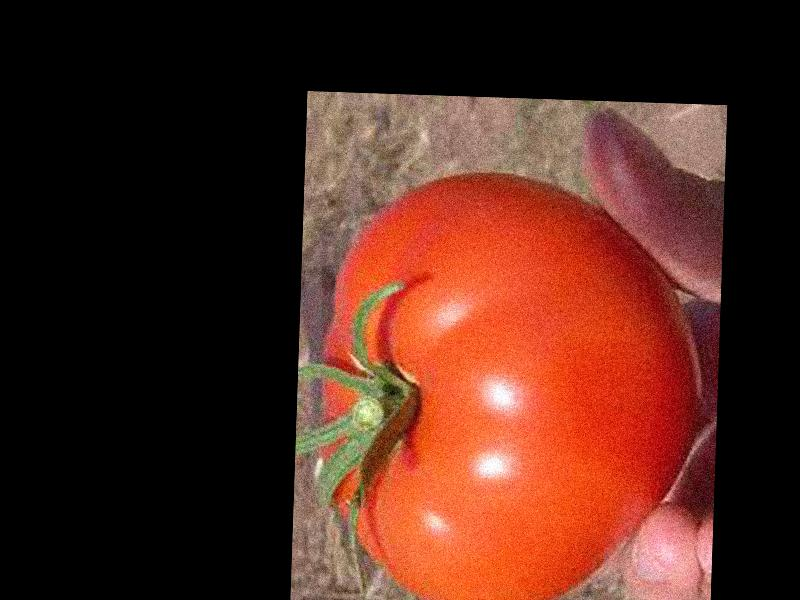Tomato: (316, 174, 703, 600)
